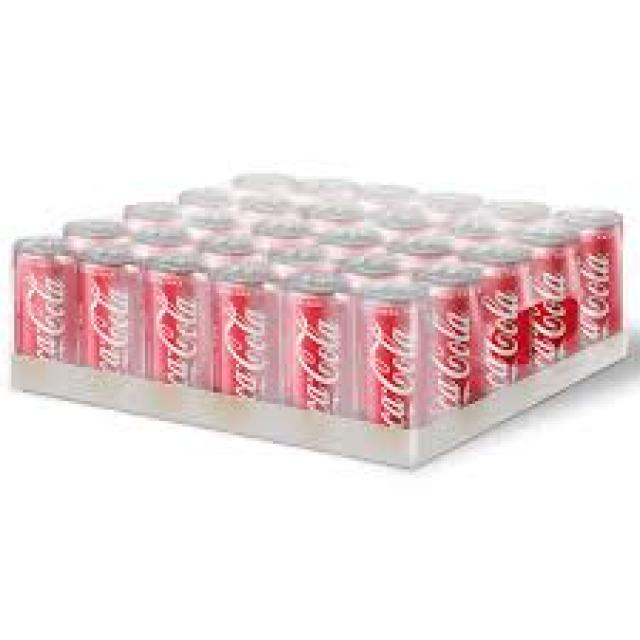Coca-Cola: (3, 224, 79, 399), (554, 196, 624, 369), (278, 281, 347, 456), (208, 266, 274, 446), (356, 290, 424, 457), (146, 255, 208, 429), (80, 249, 144, 407), (424, 282, 481, 425), (480, 259, 532, 401), (532, 242, 578, 382)
